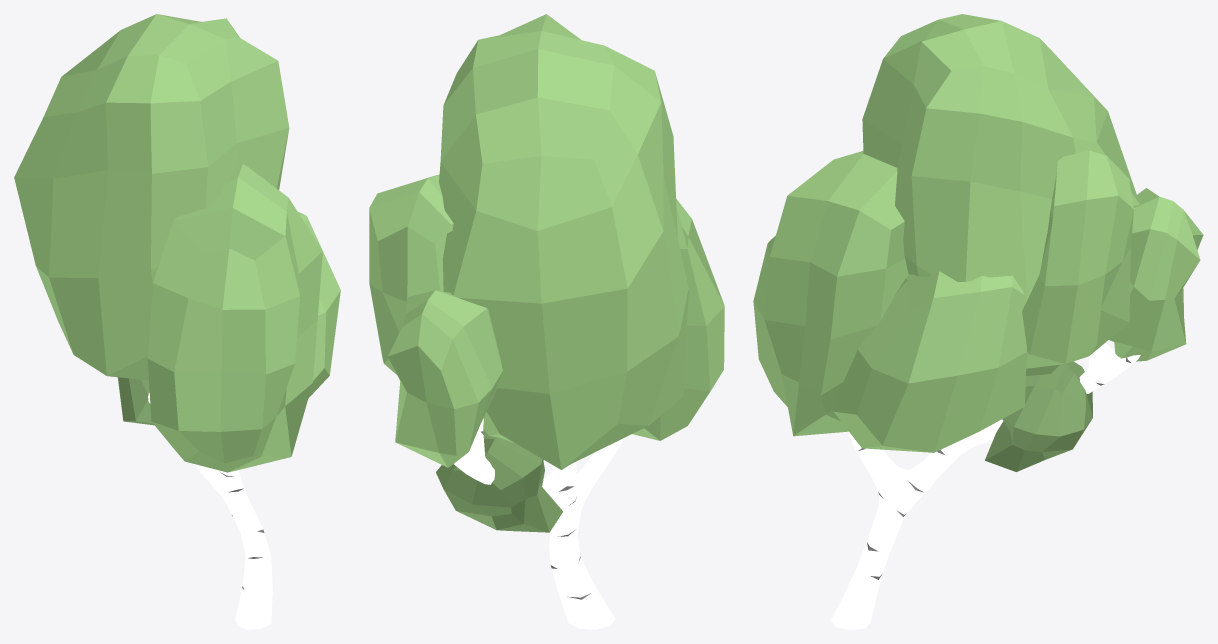
Rendered from BirchTree_1.gltf.
3 renders of one model, left to right at view 1: azimuth 30°, elevation 25°; view 2: azimuth 150°, elevation 25°; view 3: azimuth 270°, elevation 25°, orthographic. The views are drawn at different scales.
Parts seen in each view (by area): view 1: BirchTree_1; view 2: BirchTree_1; view 3: BirchTree_1.
Part boxes in pixels (bbox=[...]): BirchTree_1: bbox=[14, 14, 340, 629]; BirchTree_1: bbox=[369, 14, 724, 629]; BirchTree_1: bbox=[753, 14, 1203, 629].
Size of the model in its own units: 170 by 357 by 248.
